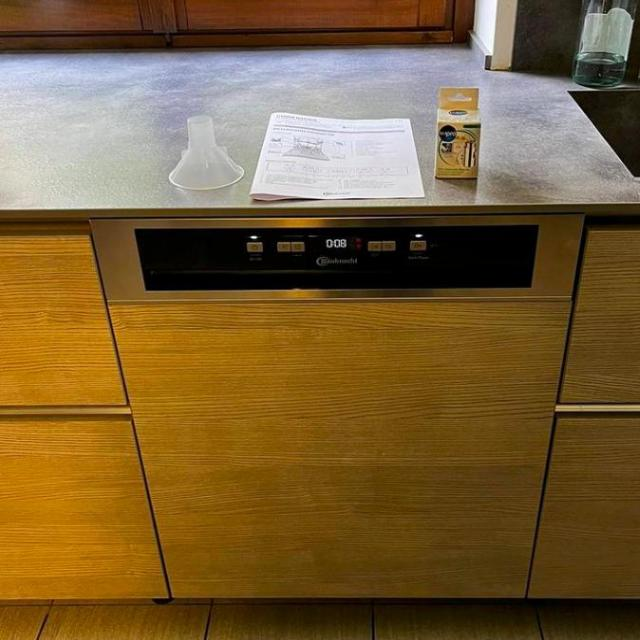dishwasher: (88, 213, 585, 597)
